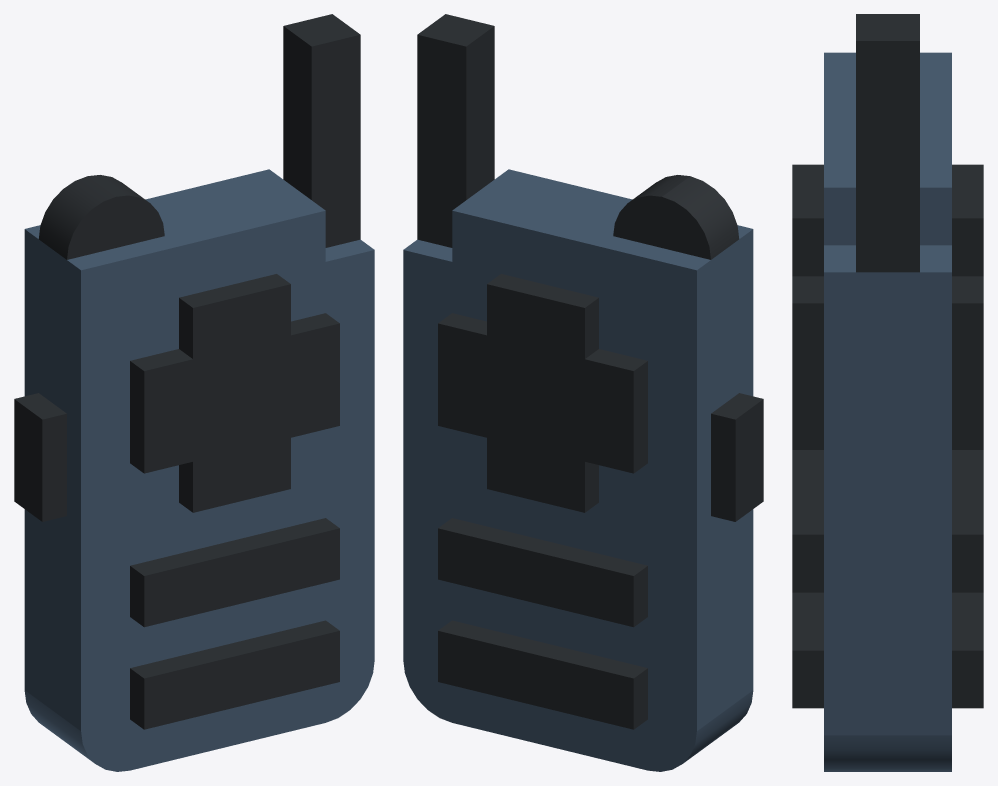
The model's file is Radio.glb.
3 views of the same model, side by side, from view 1: azimuth 30°, elevation 25°; view 2: azimuth 150°, elevation 25°; view 3: azimuth 270°, elevation 25° (orthographic). The views are drawn at different scales.
Visible parts, largest first — view 1: generated(Clone); view 2: generated(Clone); view 3: generated(Clone).
Part boxes in pixels (left/top/right/bottom): generated(Clone): left=14, top=14, right=374, bottom=771; generated(Clone): left=403, top=14, right=763, bottom=771; generated(Clone): left=792, top=14, right=983, bottom=771.
Bounding box in the file's own units: 6.5 × 13 × 3.
1 material, 1 textured.
